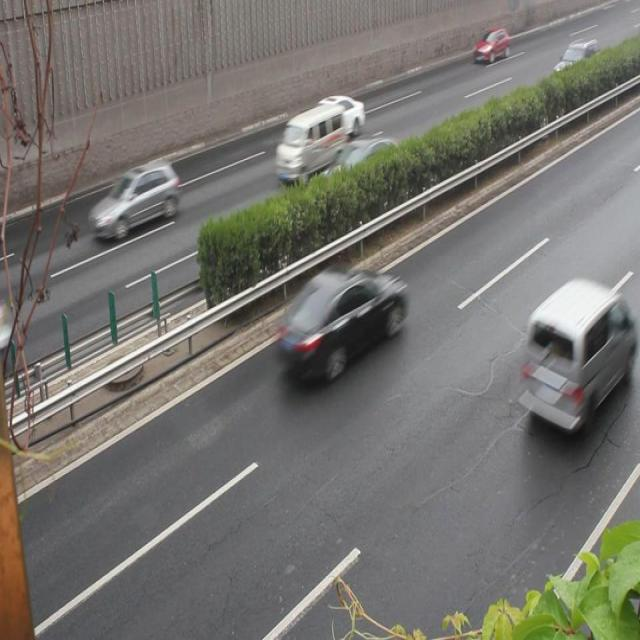car: (274, 268, 403, 378), (92, 160, 177, 242), (321, 139, 404, 215), (298, 94, 366, 145), (471, 26, 508, 64)
truck: (519, 274, 623, 432), (275, 106, 344, 182)
